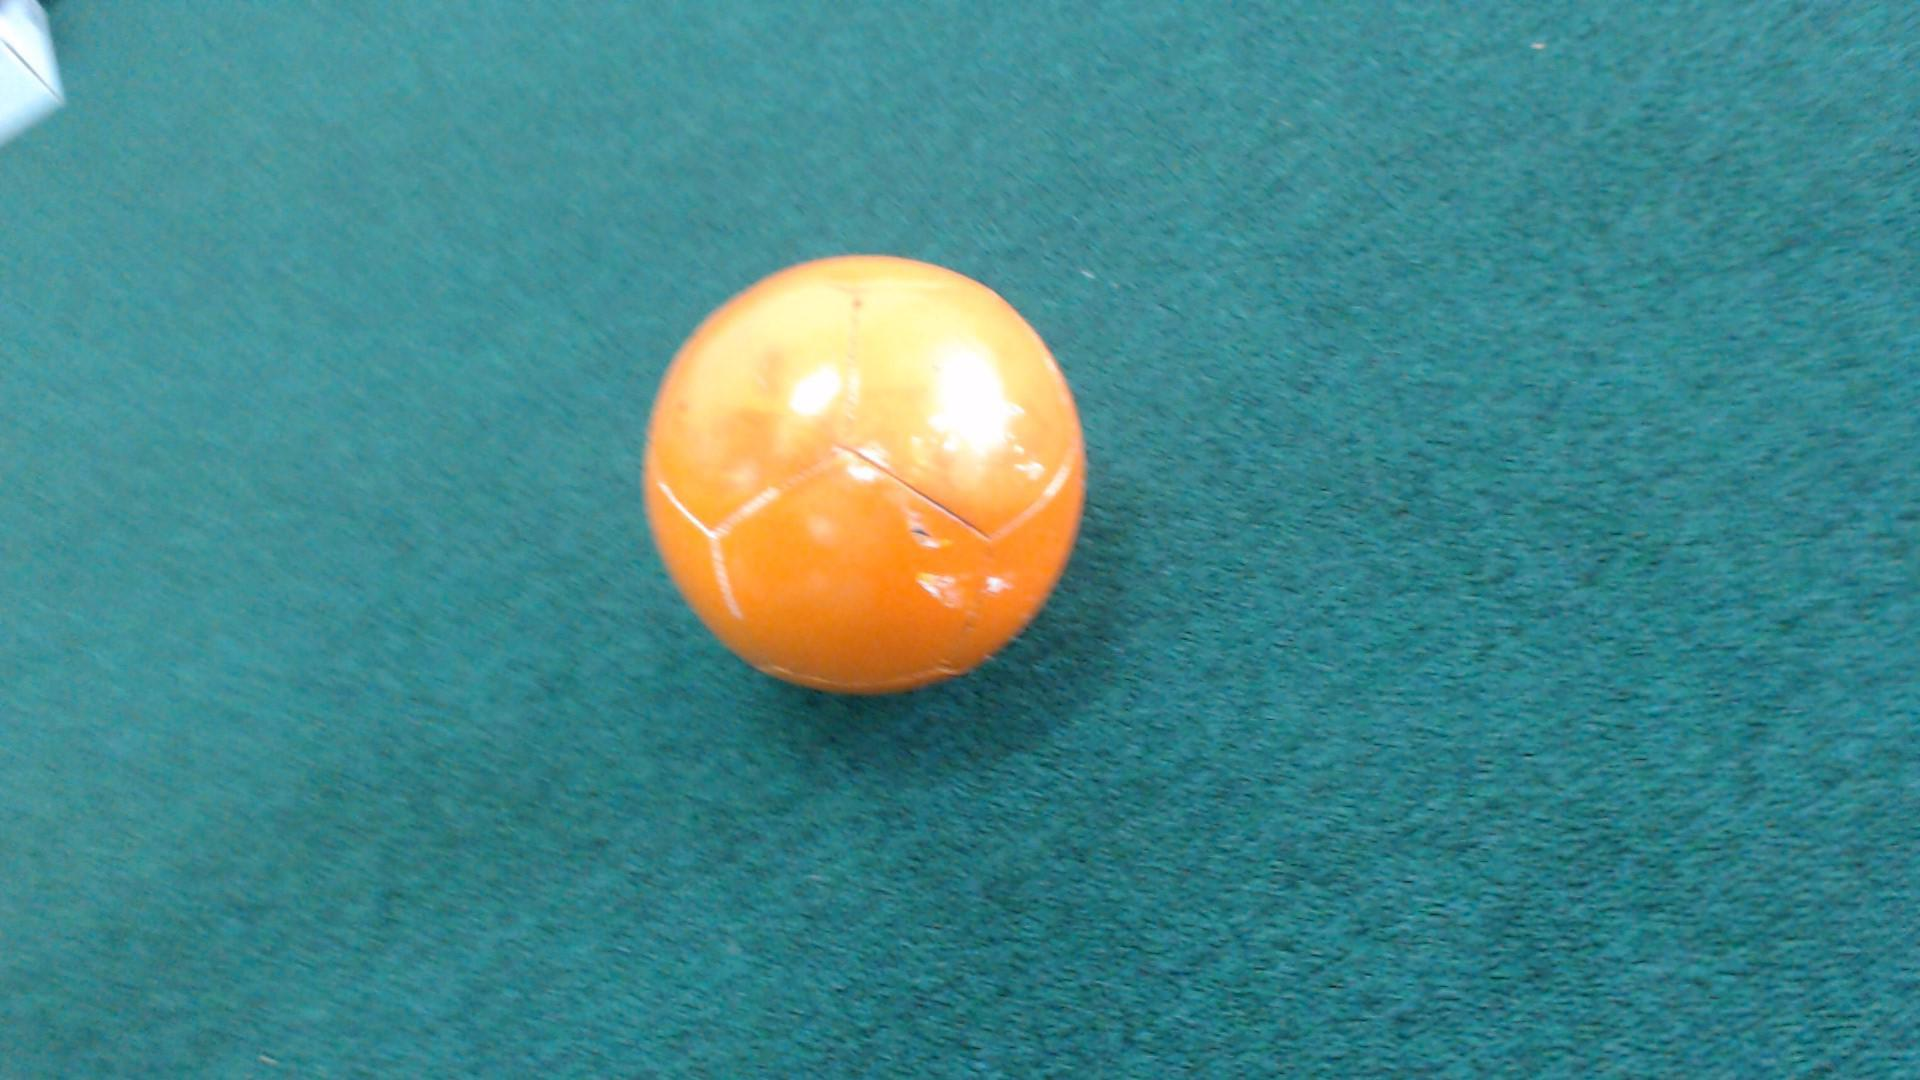bola: (621, 223, 1116, 712)
